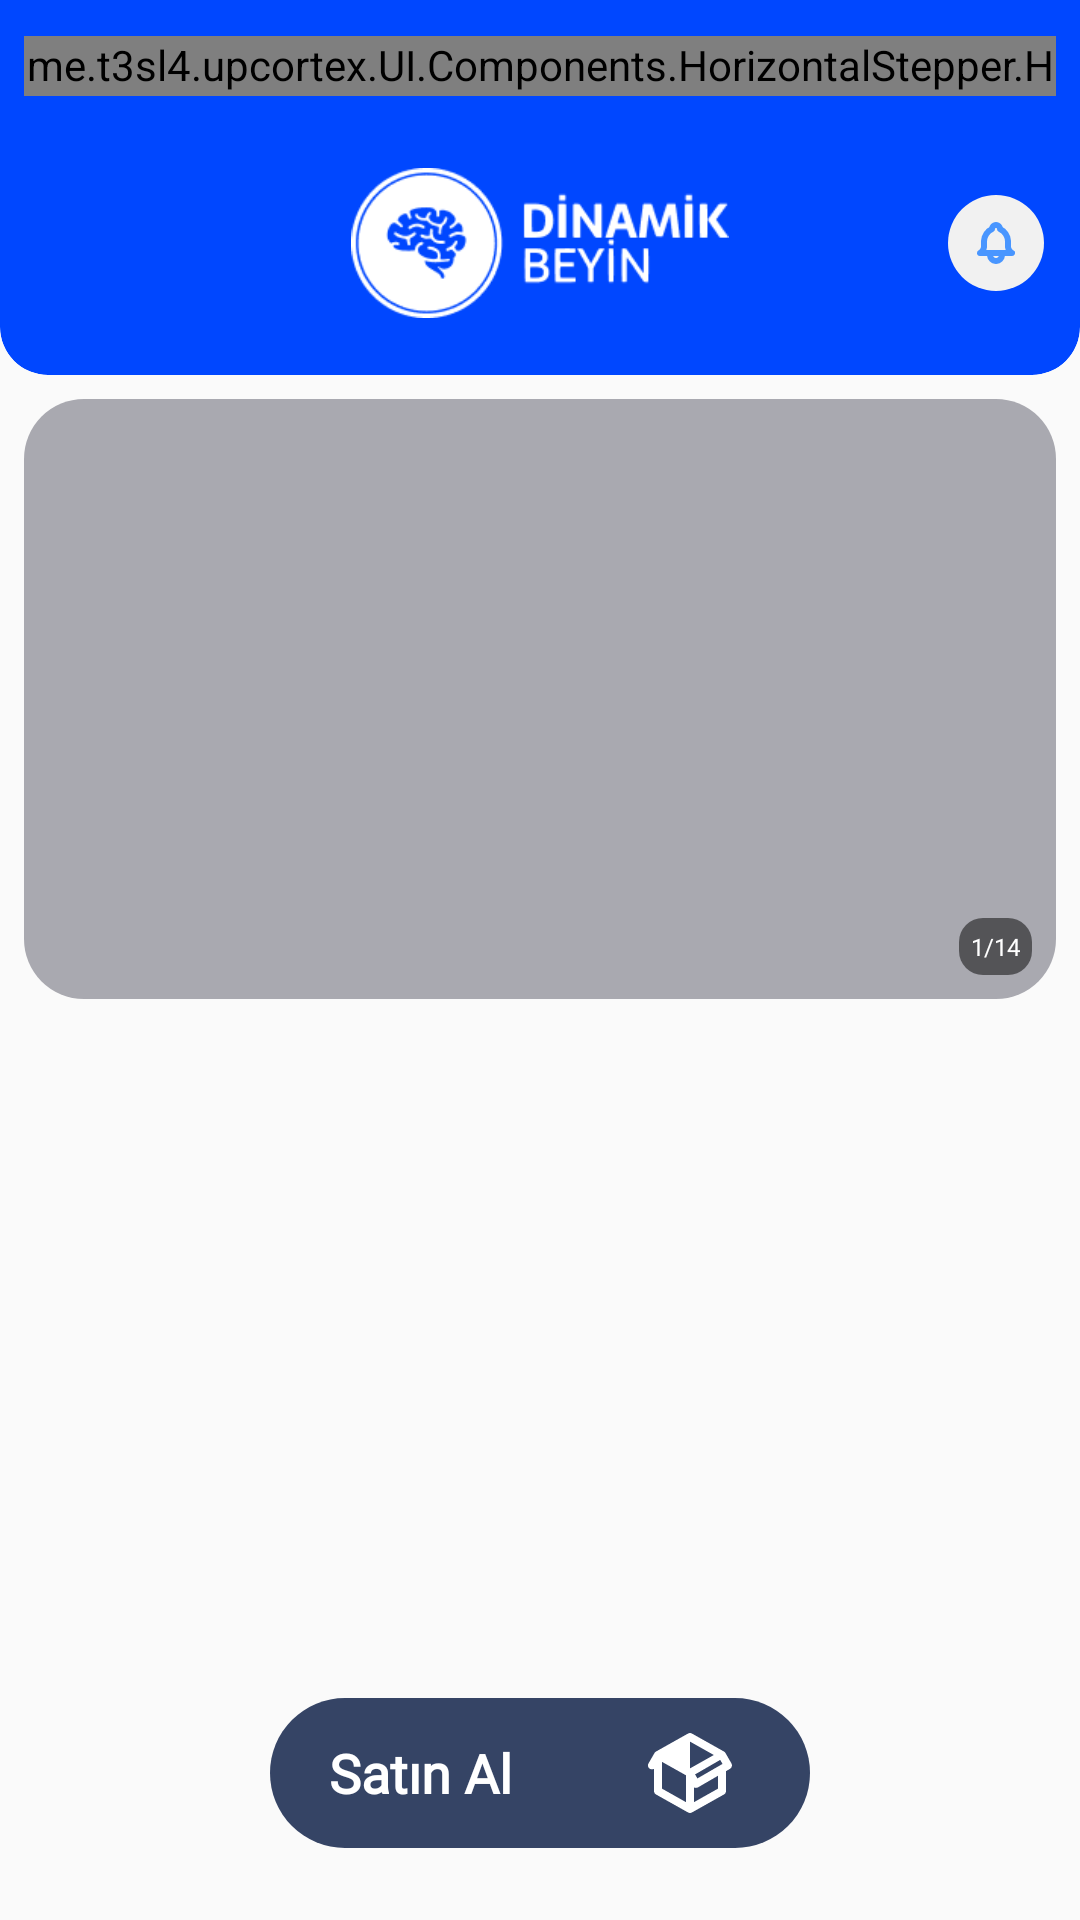

Named icons in this screenshot (1080w x 1920h) and their centers, point (x, y):
ikon notification: point (996, 243)
ikon shipment: point (690, 1773)
